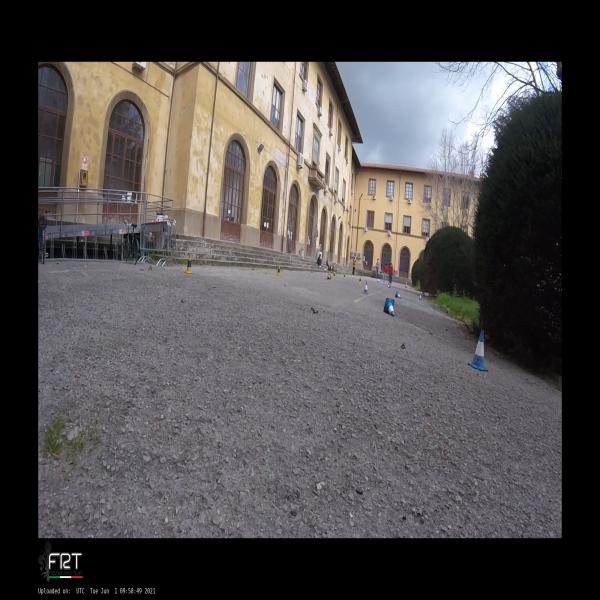blue_cone: (468, 330, 488, 370), (384, 298, 395, 316), (362, 280, 369, 294), (395, 291, 402, 299), (387, 282, 391, 288), (419, 293, 422, 300)
large_orange_cone: (405, 281, 407, 288)
yellow_cone: (184, 256, 194, 273), (276, 266, 282, 276), (326, 273, 331, 280), (358, 277, 362, 284), (343, 273, 346, 279)
